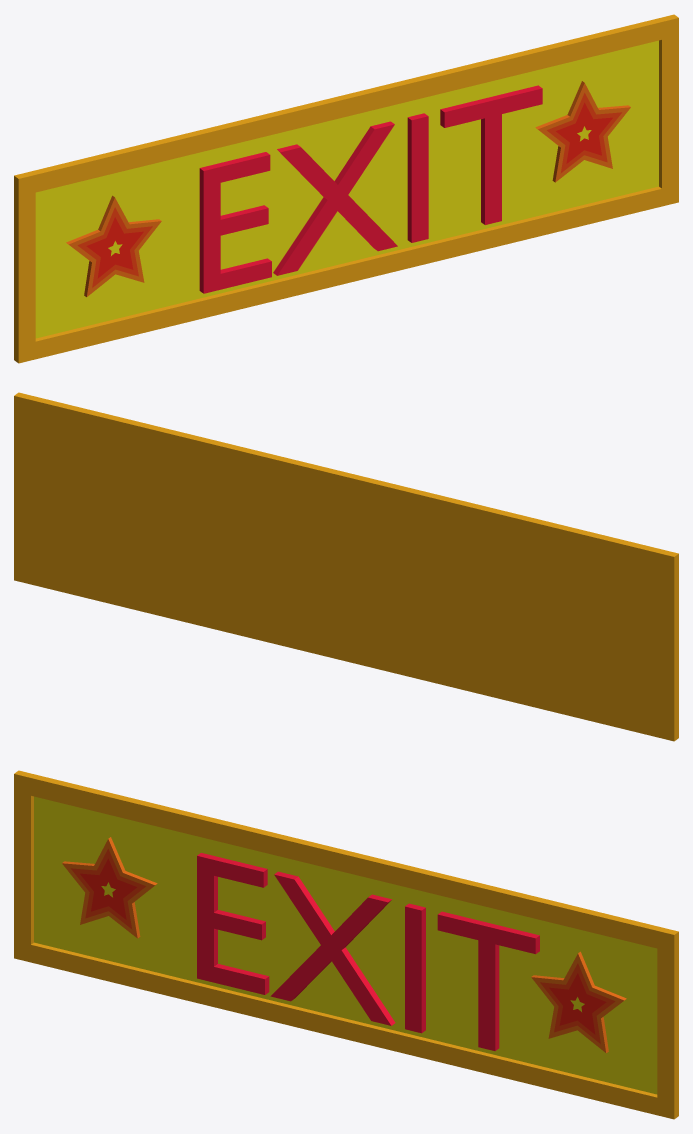
Rendered from EXIT.fbx.
The picture shows the model from 3 angles, top to bottom: view 1: azimuth 30°, elevation 25°; view 2: azimuth 150°, elevation 25°; view 3: azimuth 330°, elevation 25°; orthographic projection.
Parts seen in each view (by area): view 1: Text; view 2: Text; view 3: Text.
Part boxes in pixels (x1,y1,x2,y2): Text: (14,14,678,363); Text: (14,392,678,741); Text: (14,770,678,1119).
Size of the model in its own units: 138 by 36.74 by 2.06.
1 material, 1 textured.
